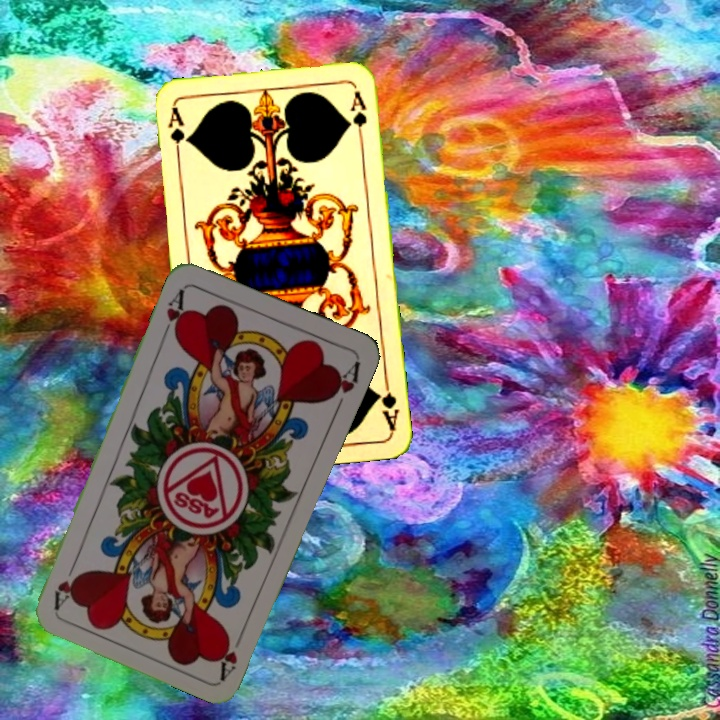GA: (372, 373, 402, 432), (163, 103, 187, 162)
HA: (214, 624, 248, 681), (158, 284, 189, 341)
